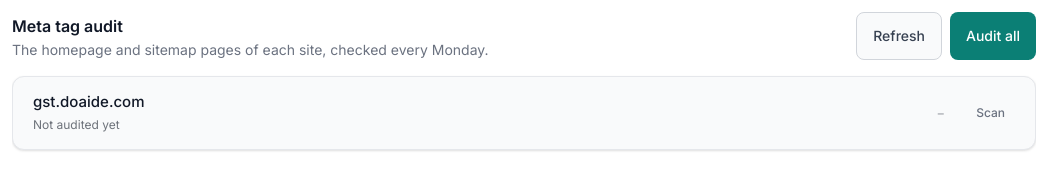
Test case: AuditPanel › scans one site in place
The image size is (1048, 172).
Click the button with aria-label "Audit gst.doaide.com" at x=991, y=113, box [966,89,1015,137]
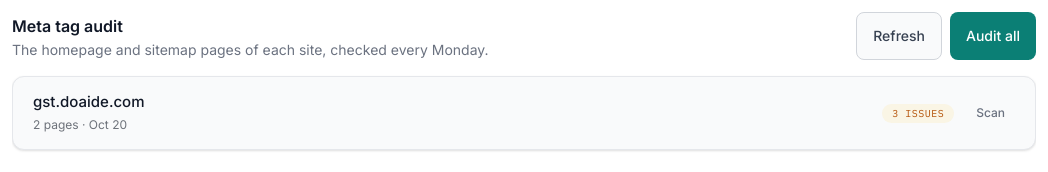
Check: the text "3 issues" is shown, box [882,104,954,122]
